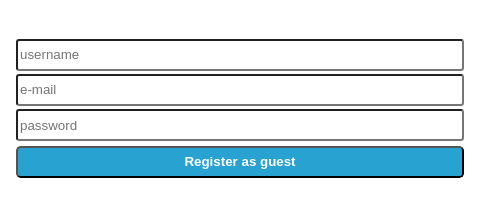
App › render register as guest error message
Click the button "Register as guest": (240, 162) [16, 146, 464, 178]
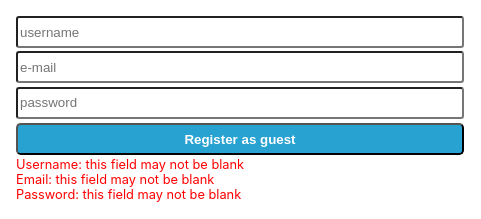
expect the text "Username: this field may not be blank" is shown: met, box [16, 157, 244, 172]
expect the text "Email: this field may not be blank" is shown: met, box [16, 172, 214, 187]
expect the text "Password: this field may not be blank" is shown: met, box [16, 187, 241, 202]
